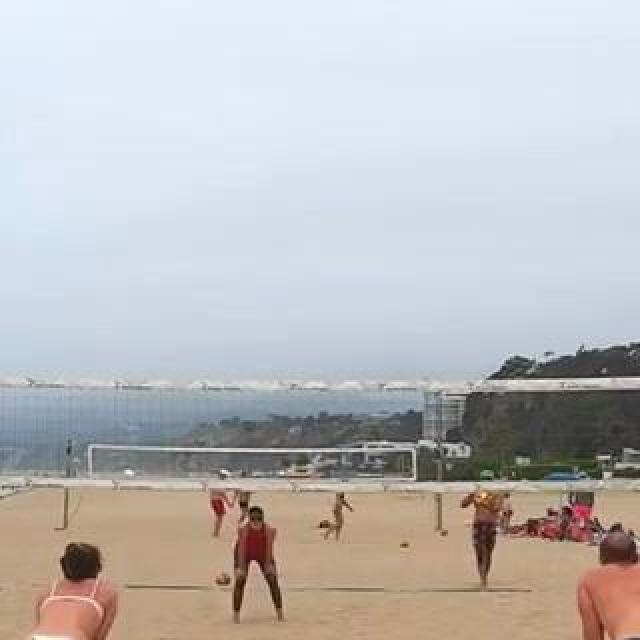volleyball: (474, 490, 492, 508), (216, 572, 232, 590)
